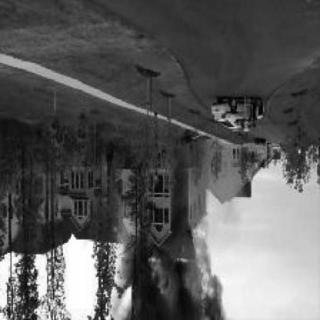Fire: (171, 223, 223, 319)
Smoke: (126, 247, 166, 320)
